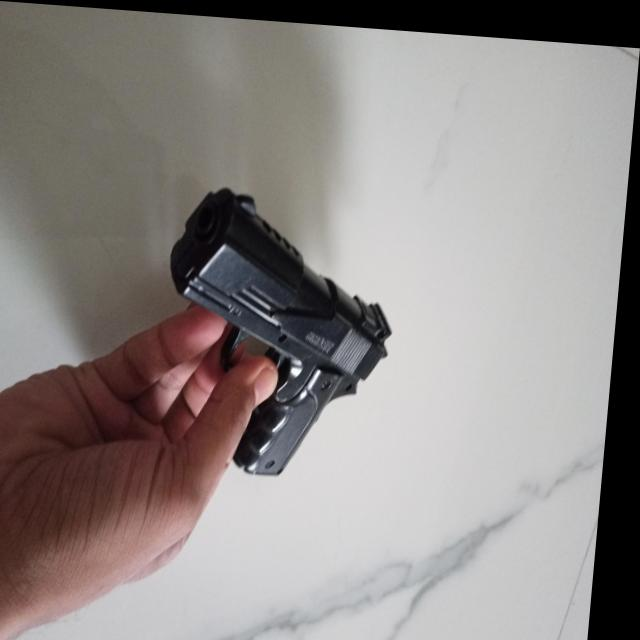handgun: (156, 179, 406, 481)
